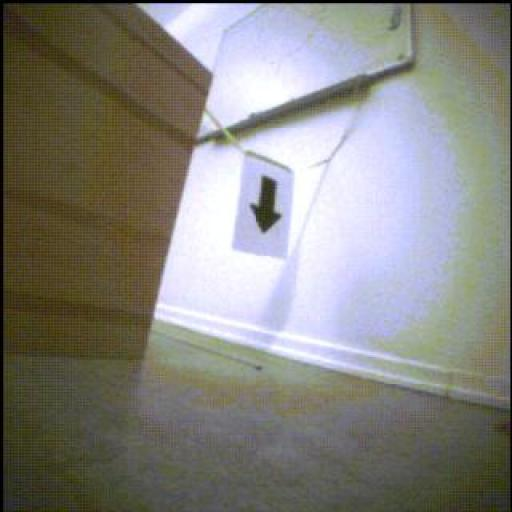arrow: (252, 177, 283, 233), (388, 6, 403, 31)
